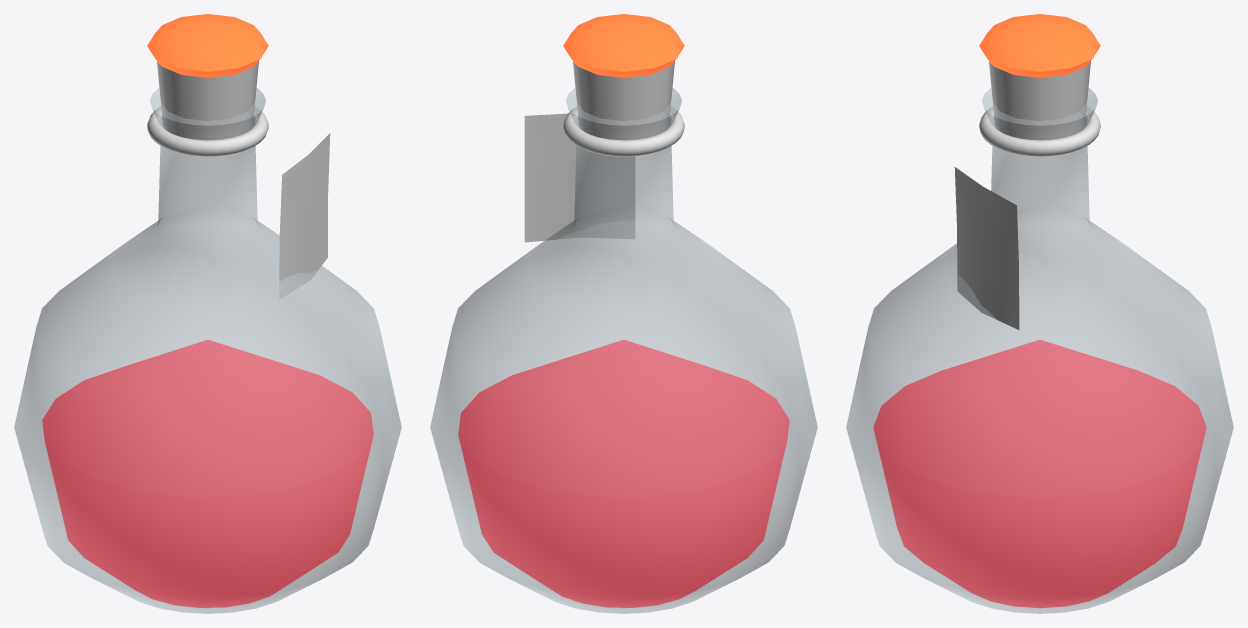
Rendered from health_potion.glb.
3 renders of one model, left to right at view 1: azimuth 30°, elevation 25°; view 2: azimuth 150°, elevation 25°; view 3: azimuth 270°, elevation 25°, orthographic.
Visible parts, largest first — view 1: health_potion; view 2: health_potion; view 3: health_potion.
Boxes of the visible parts, x1=… form: health_potion: x1=14, y1=14, x2=401, y2=613; health_potion: x1=430, y1=14, x2=817, y2=613; health_potion: x1=846, y1=14, x2=1233, y2=613.
Size of the model in its own units: 0.14 by 0.2197 by 0.14.
